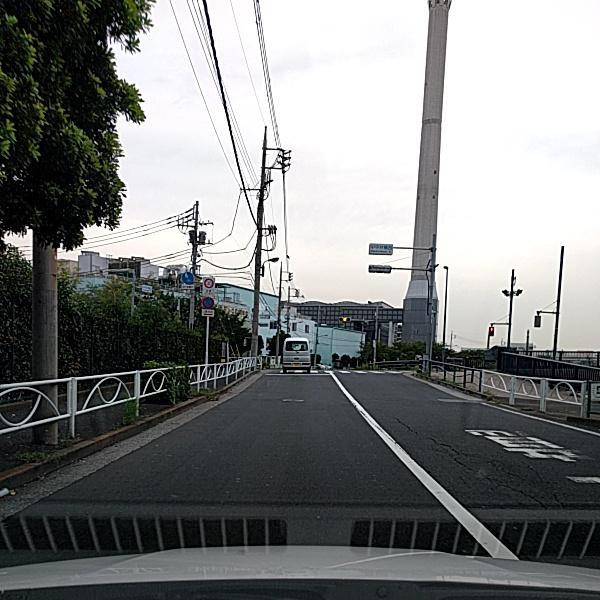D00: (390, 412, 457, 452)
D20: (443, 447, 575, 519)
